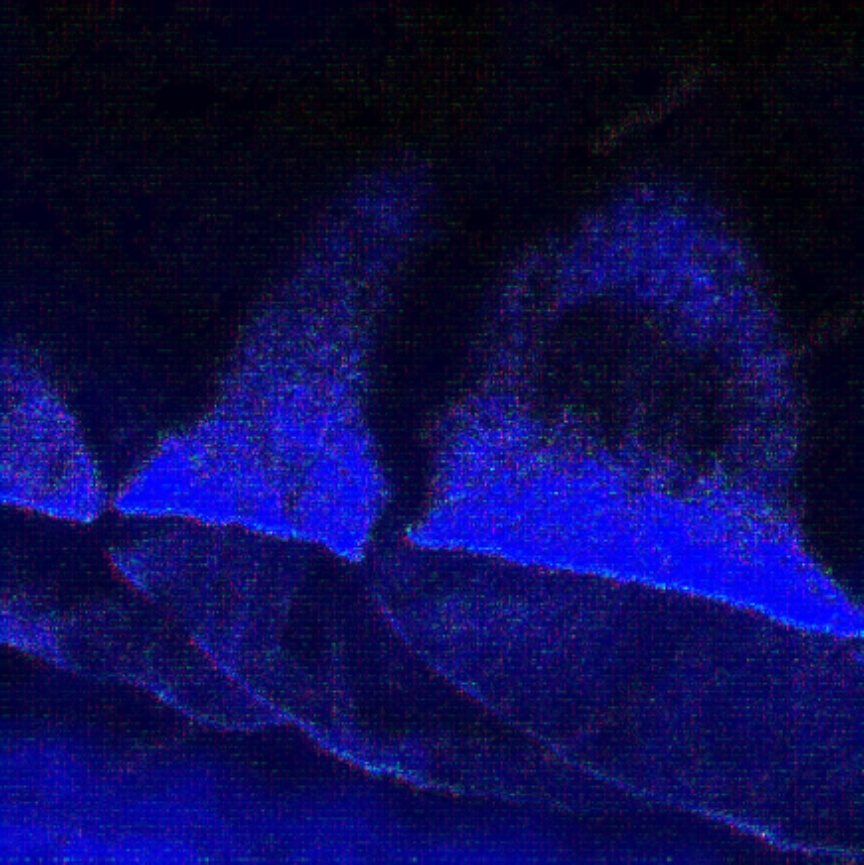rip_current: (328, 95, 492, 547)
